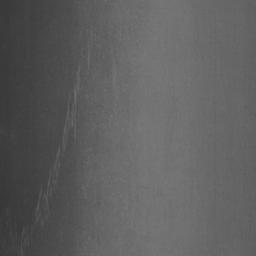Silk spot: (2, 175, 56, 256), (55, 93, 80, 157), (65, 158, 76, 174), (49, 191, 58, 210), (76, 102, 85, 120), (68, 78, 76, 89), (0, 197, 3, 216)
